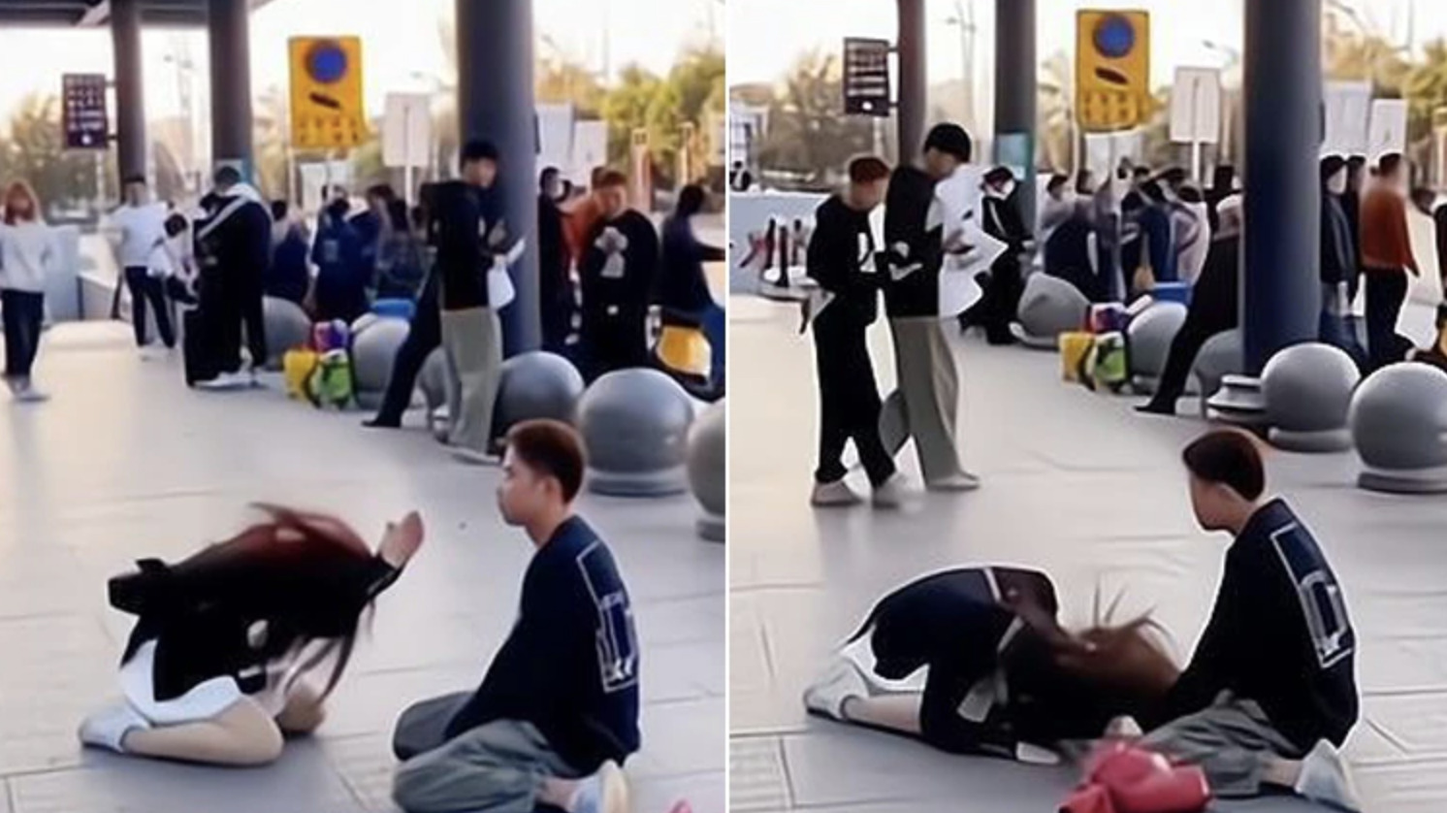crawl: (75, 495, 424, 765), (804, 560, 1177, 768)
kneel: (1060, 426, 1361, 804), (388, 416, 645, 813)
sit: (655, 167, 726, 401)
stand: (364, 137, 520, 440), (877, 123, 985, 496), (801, 151, 902, 508), (1132, 165, 1249, 416), (563, 164, 659, 377), (185, 160, 273, 386), (940, 161, 1026, 343), (1357, 152, 1423, 370), (1, 178, 60, 404), (107, 173, 180, 350), (308, 183, 383, 323), (1316, 149, 1364, 361), (1113, 157, 1170, 295), (1153, 163, 1208, 284)
